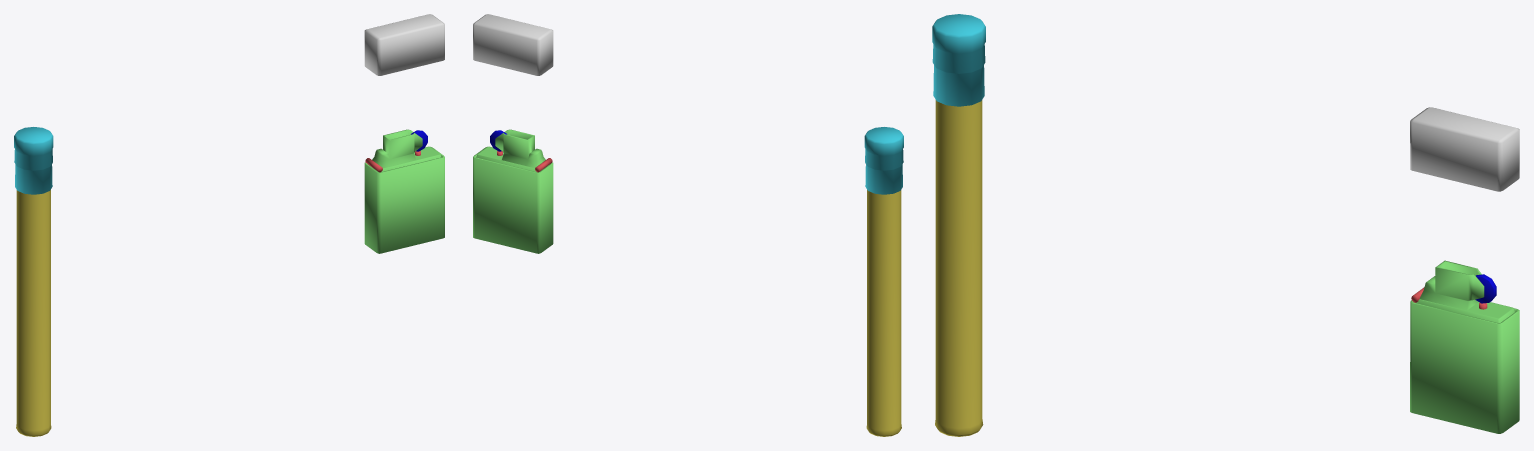
Rendered from Flare_lighter.fbx.
3 renders of one model, left to right at view 1: azimuth 30°, elevation 25°; view 2: azimuth 150°, elevation 25°; view 3: azimuth 330°, elevation 25°, orthographic. The views are drawn at different scales.
Visible parts, largest first — view 1: Flare, lighter_body, lighter_head; view 2: Flare, lighter_body, lighter_head; view 3: Flare, lighter_body, lighter_head.
Boxes of the visible parts, x1,y1,x2,y2 form: Flare: [14, 127, 53, 436]; lighter_body: [364, 129, 444, 253]; lighter_head: [364, 14, 444, 75]; Flare: [864, 127, 903, 436]; lighter_body: [473, 129, 553, 253]; lighter_head: [473, 14, 553, 75]; Flare: [932, 14, 985, 436]; lighter_body: [1410, 260, 1519, 433]; lighter_head: [1410, 107, 1519, 191].
Size of the model in its own units: 1.59 by 1.13 by 0.1285.
